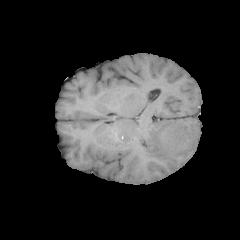glioma: (141, 121, 195, 164)
